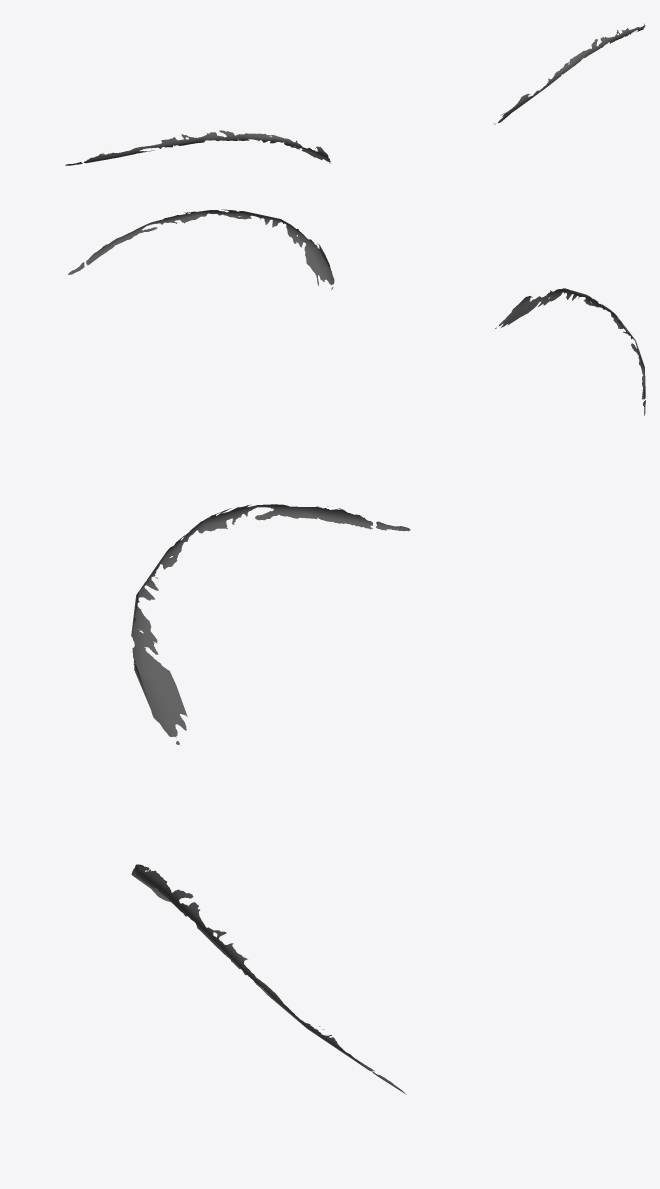
File: brow006.glb
3 views of the same model, one above another, from view 1: azimuth 30°, elevation 25°; view 2: azimuth 150°, elevation 25°; view 3: azimuth 270°, elevation 25° (orthographic). The views are drawn at different scales.
Visible parts, largest first — view 1: editor_brow006; view 2: editor_brow006; view 3: editor_brow006.
Part boxes in pixels (x1,y1,x2,y2): editor_brow006: (65, 24, 645, 165); editor_brow006: (68, 209, 645, 415); editor_brow006: (131, 504, 410, 1094).
Bounding box in the file's own units: 0.1093 × 0.0135 × 0.0302.
Materials: 1 (1 with a texture image).
